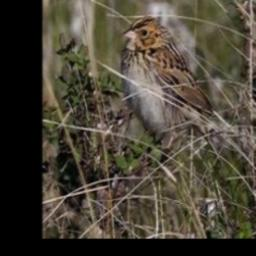Sparrow: (116, 15, 256, 161)
